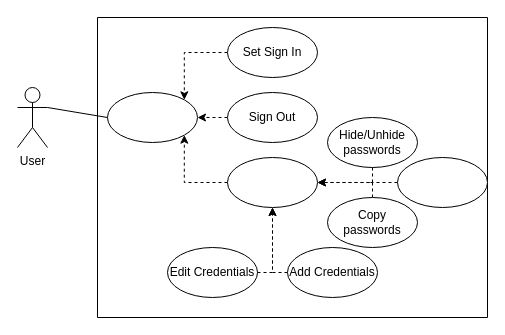
Image size: 505x335. Some labels were removed from this diagram. The centre of each missing label's shape, as x and y in pixels:
"Save Credentials" goes at (442,182).
"Sign In" goes at (152,117).
"View Credentials" goes at (272,182).
